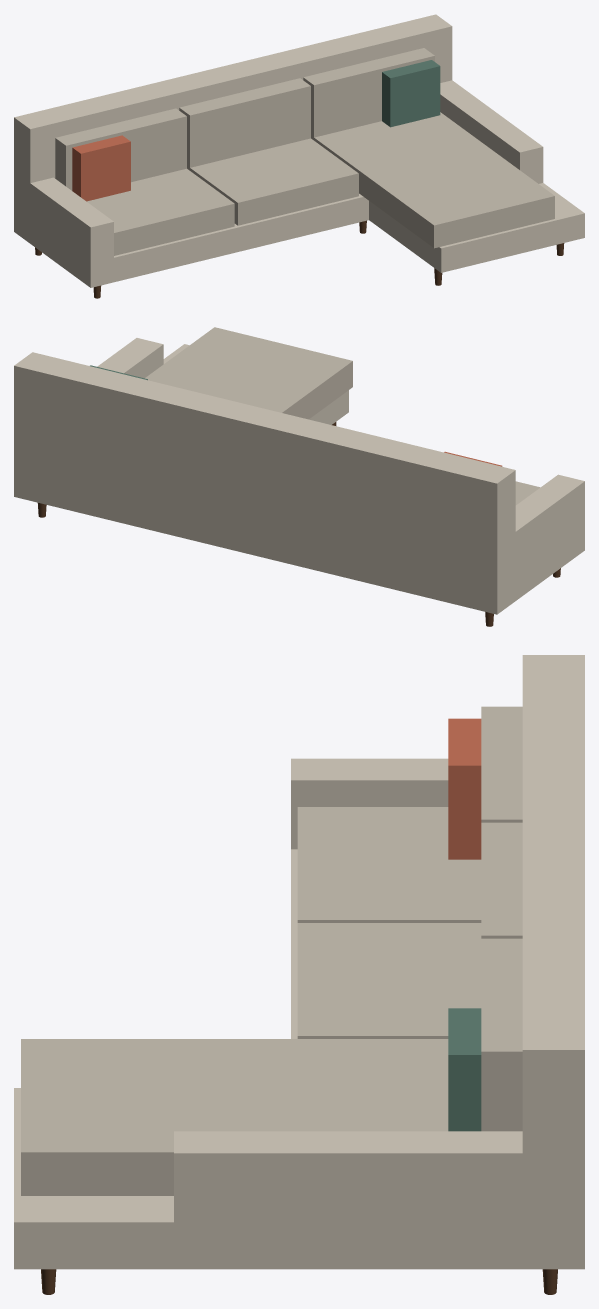
Rendered from sofa_l_sectional.glb.
The picture shows the model from 3 angles, top to bottom: view 1: azimuth 30°, elevation 25°; view 2: azimuth 150°, elevation 25°; view 3: azimuth 270°, elevation 25°; orthographic projection. The views are drawn at different scales.
Bounding box in the file's own units: 2.7 × 0.82 × 1.65.
